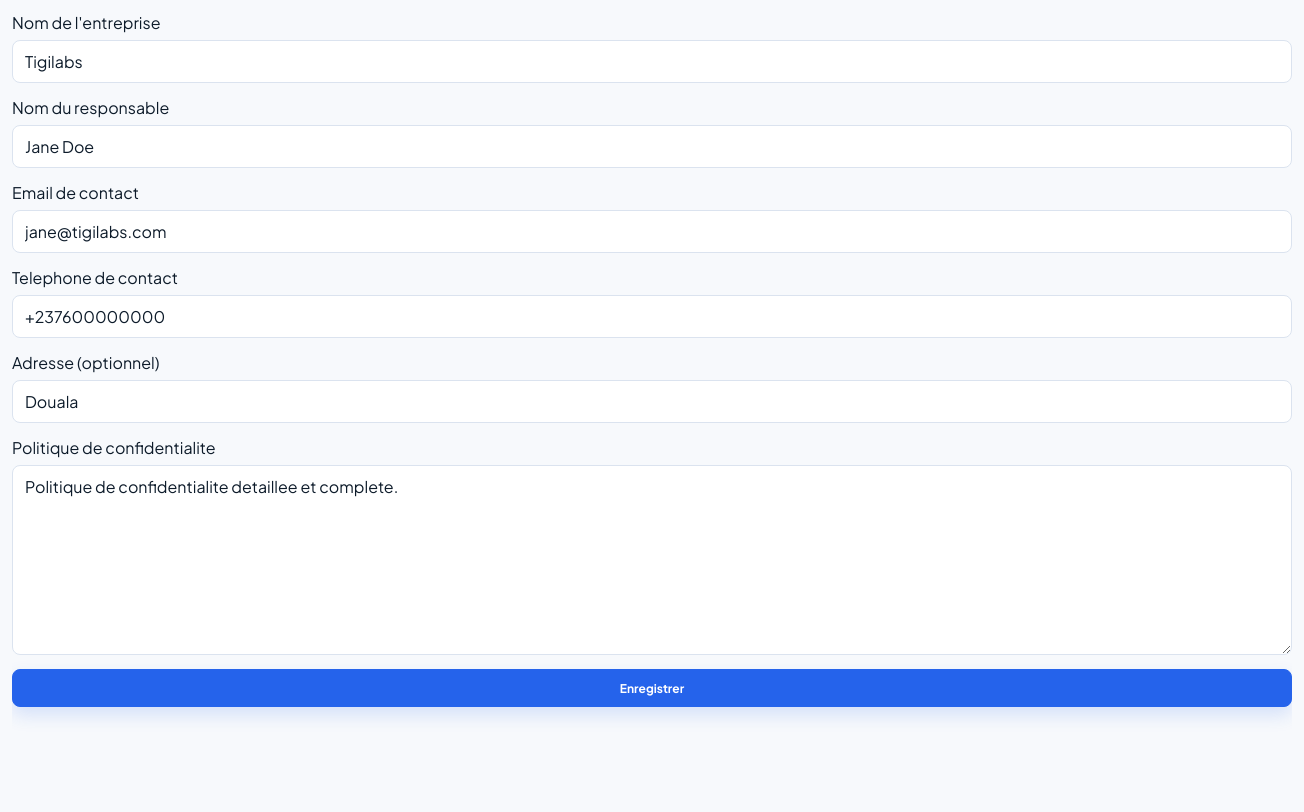
Scenario: SiteSettingsForm › shows an error toast when the update fails
Click the button "Enregistrer": (652, 688) left=12, top=669, right=1292, bottom=707
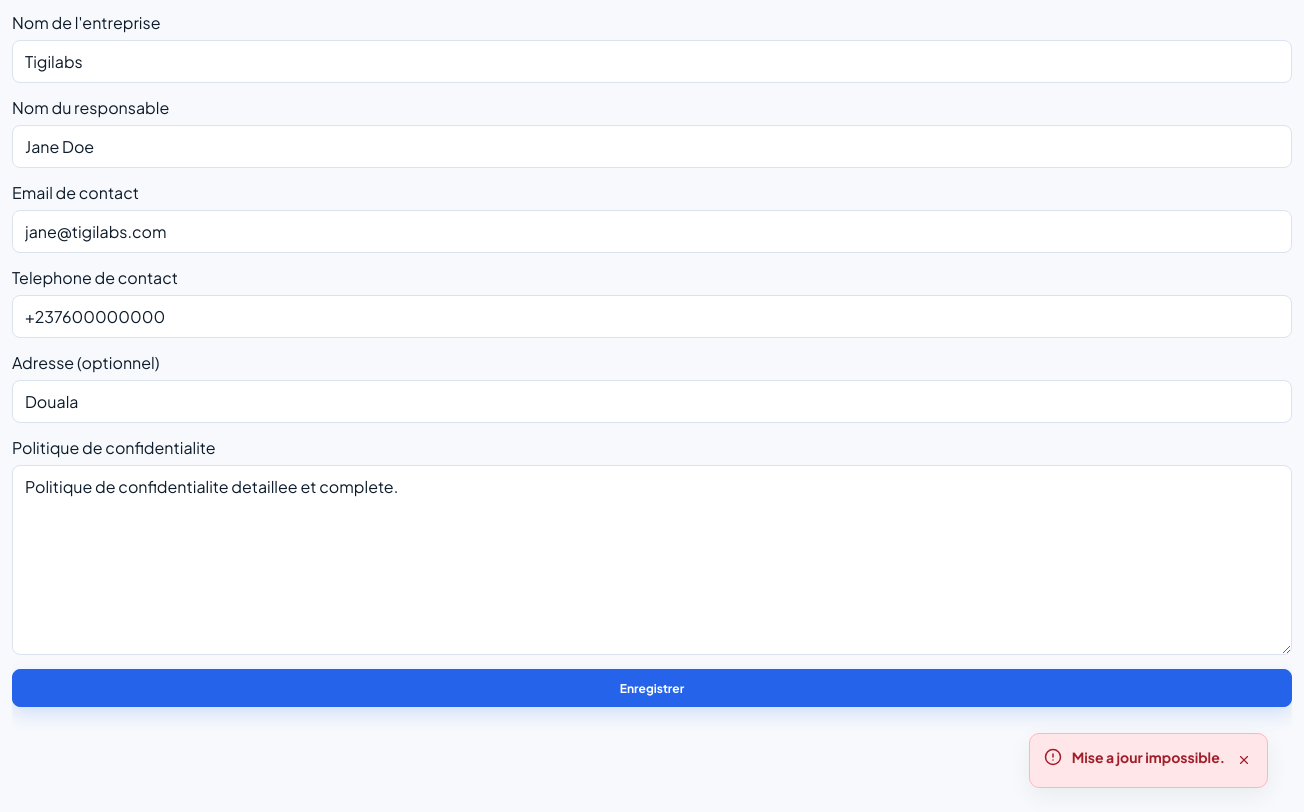
Expected: the text "Mise a jour impossible." is shown, left=1072, top=748, right=1225, bottom=766
